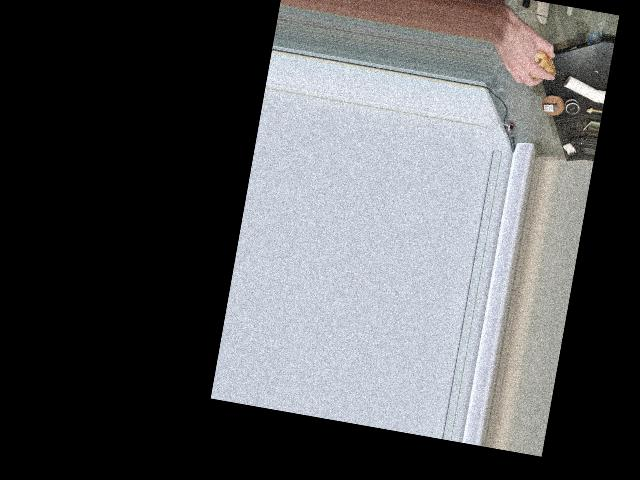onion: (512, 38, 561, 81)
